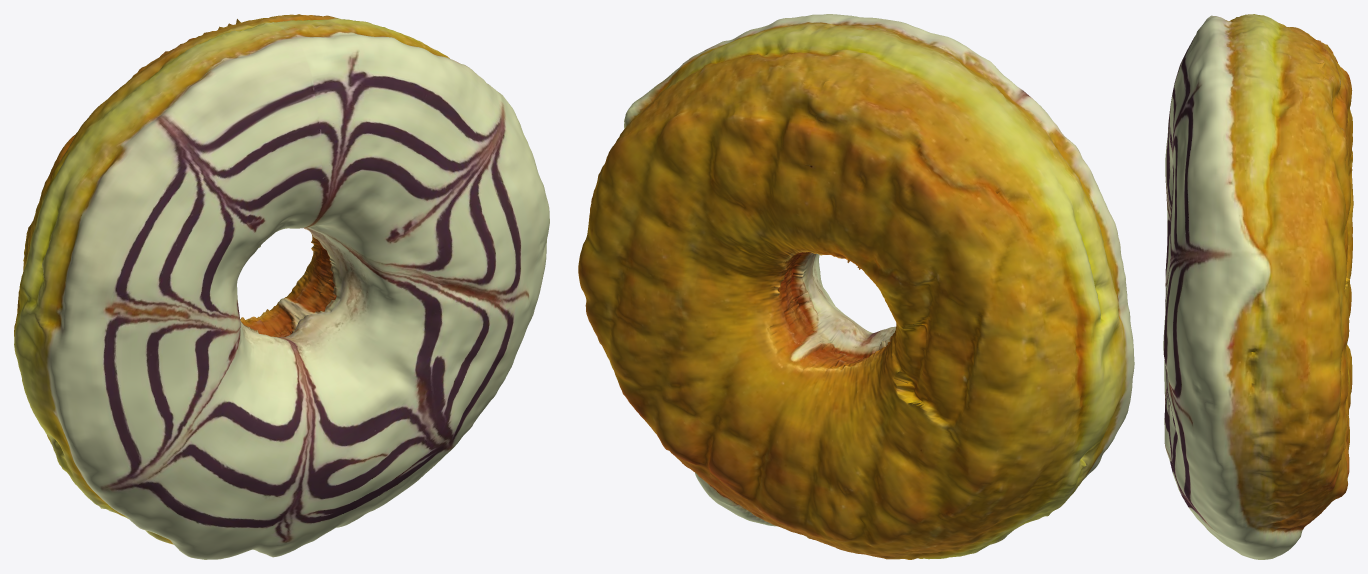
Rendered from whitedonut3.glb.
3 renders of one model, left to right at view 1: azimuth 30°, elevation 25°; view 2: azimuth 150°, elevation 25°; view 3: azimuth 270°, elevation 25°, orthographic. The views are drawn at different scales.
Visible parts, largest first — view 1: D_000_Final_Subiv_v002:Low; view 2: D_000_Final_Subiv_v002:Low; view 3: D_000_Final_Subiv_v002:Low.
Boxes of the visible parts, x1=… form: D_000_Final_Subiv_v002:Low: x1=14, y1=14, x2=549, y2=559; D_000_Final_Subiv_v002:Low: x1=578, y1=14, x2=1134, y2=559; D_000_Final_Subiv_v002:Low: x1=1163, y1=14, x2=1353, y2=559.
Bounding box in the file's own units: 0.09 × 0.0886 × 0.0317.
Materials: 1 (1 with a texture image).
